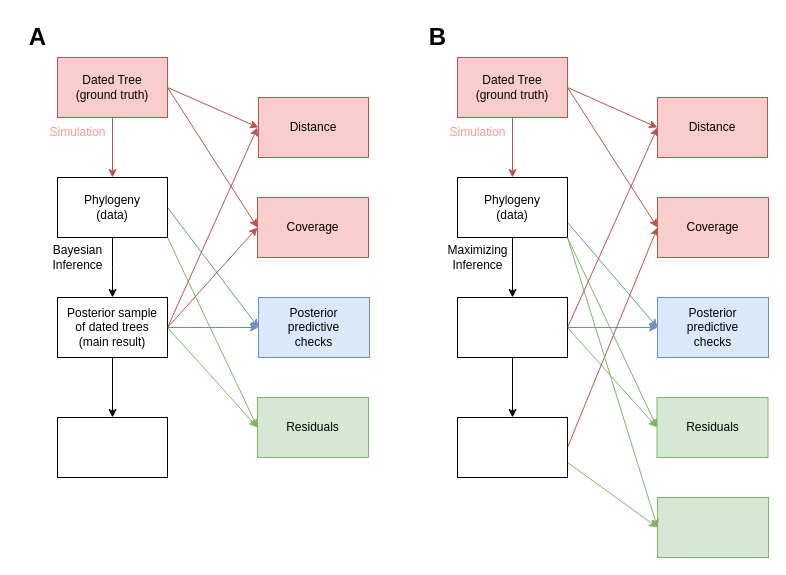
This 786x575 diagram has some shape labels left out. The shapes that lost their labels are listed below. From the top down, each one's box as (x1, y1, x2, y2) in pixels, then its label:
(456, 296, 568, 358): Dated tree (main result)
(56, 416, 168, 478): Dated tree consensus (printed result)
(456, 416, 568, 478): Parametric bootstrap
(656, 496, 768, 558): Bootstrap R esiduals
